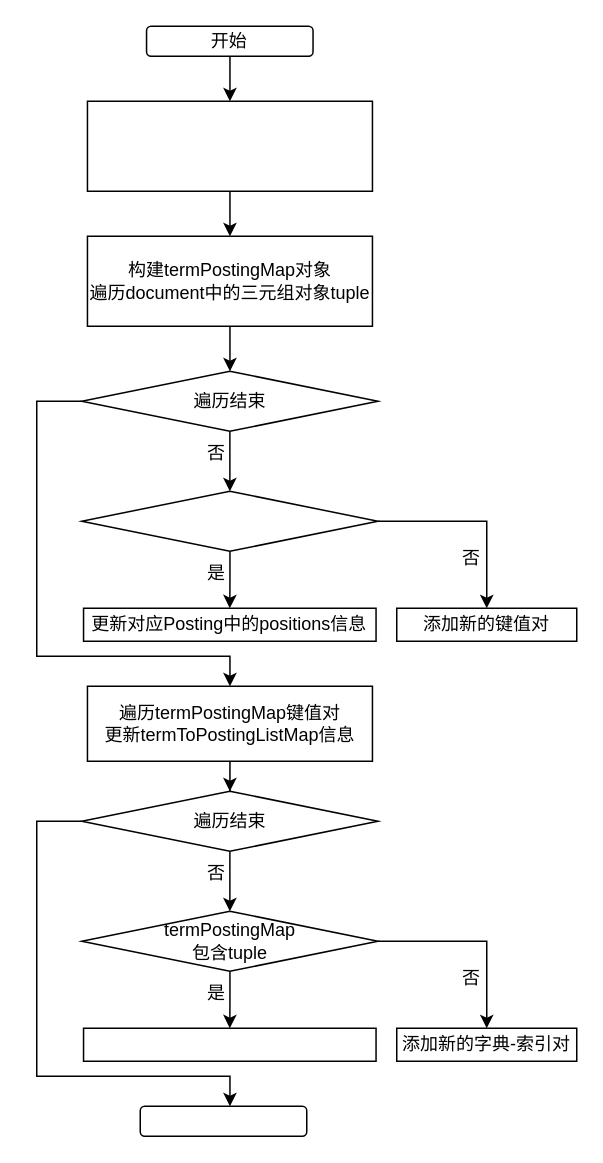
The diagram is 603 pixels wide and 1163 high, and some of its shapes have lost their labels. Each missing label, with the centre of its shape:
termPostingMap包含tuple: the point at 229,520
向对应PostingList中添加Posting: the point at 229,1044
更新docIdToDocPathMapping信息 使用哈希表的put方法: the point at 229,145
结束: the point at 223,1120
